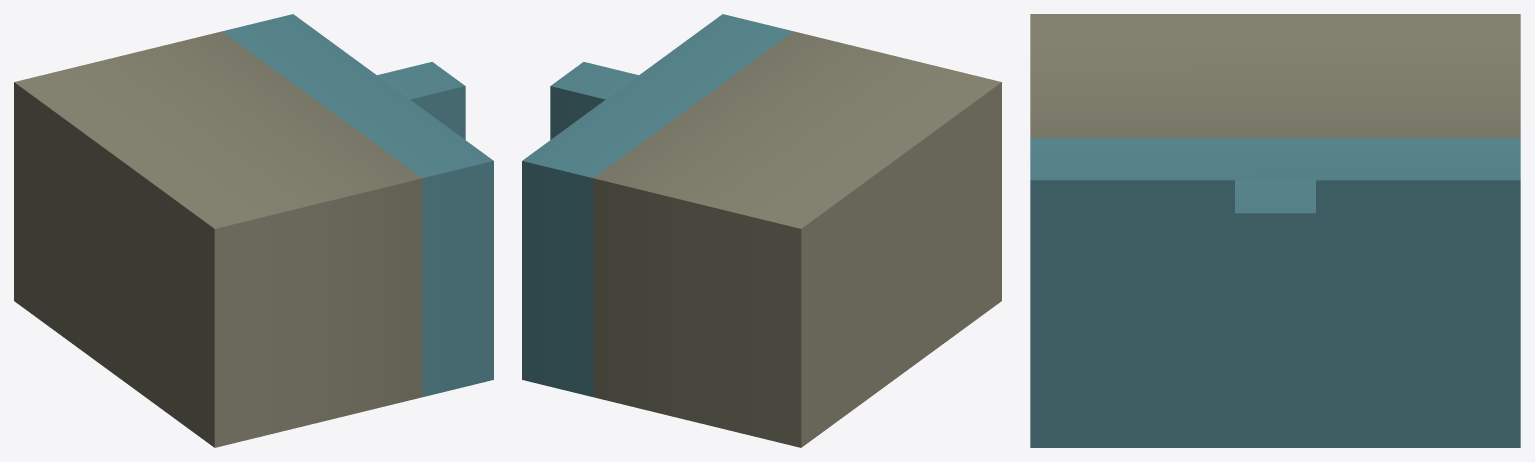
The model's file is SK_Cartridge_Cyan.fbx.
3 renders of one model, left to right at view 1: azimuth 30°, elevation 25°; view 2: azimuth 150°, elevation 25°; view 3: azimuth 270°, elevation 25°, orthographic. The views are drawn at different scales.
Visible parts, largest first — view 1: cyanCartridge; view 2: cyanCartridge; view 3: cyanCartridge.
Part boxes in pixels (x1,y1,x2,y2): cyanCartridge: (14,14,493,447); cyanCartridge: (522,14,1001,447); cyanCartridge: (1030,14,1520,447).
Size of the model in its own units: 9.38 by 5.87 by 9.74.
